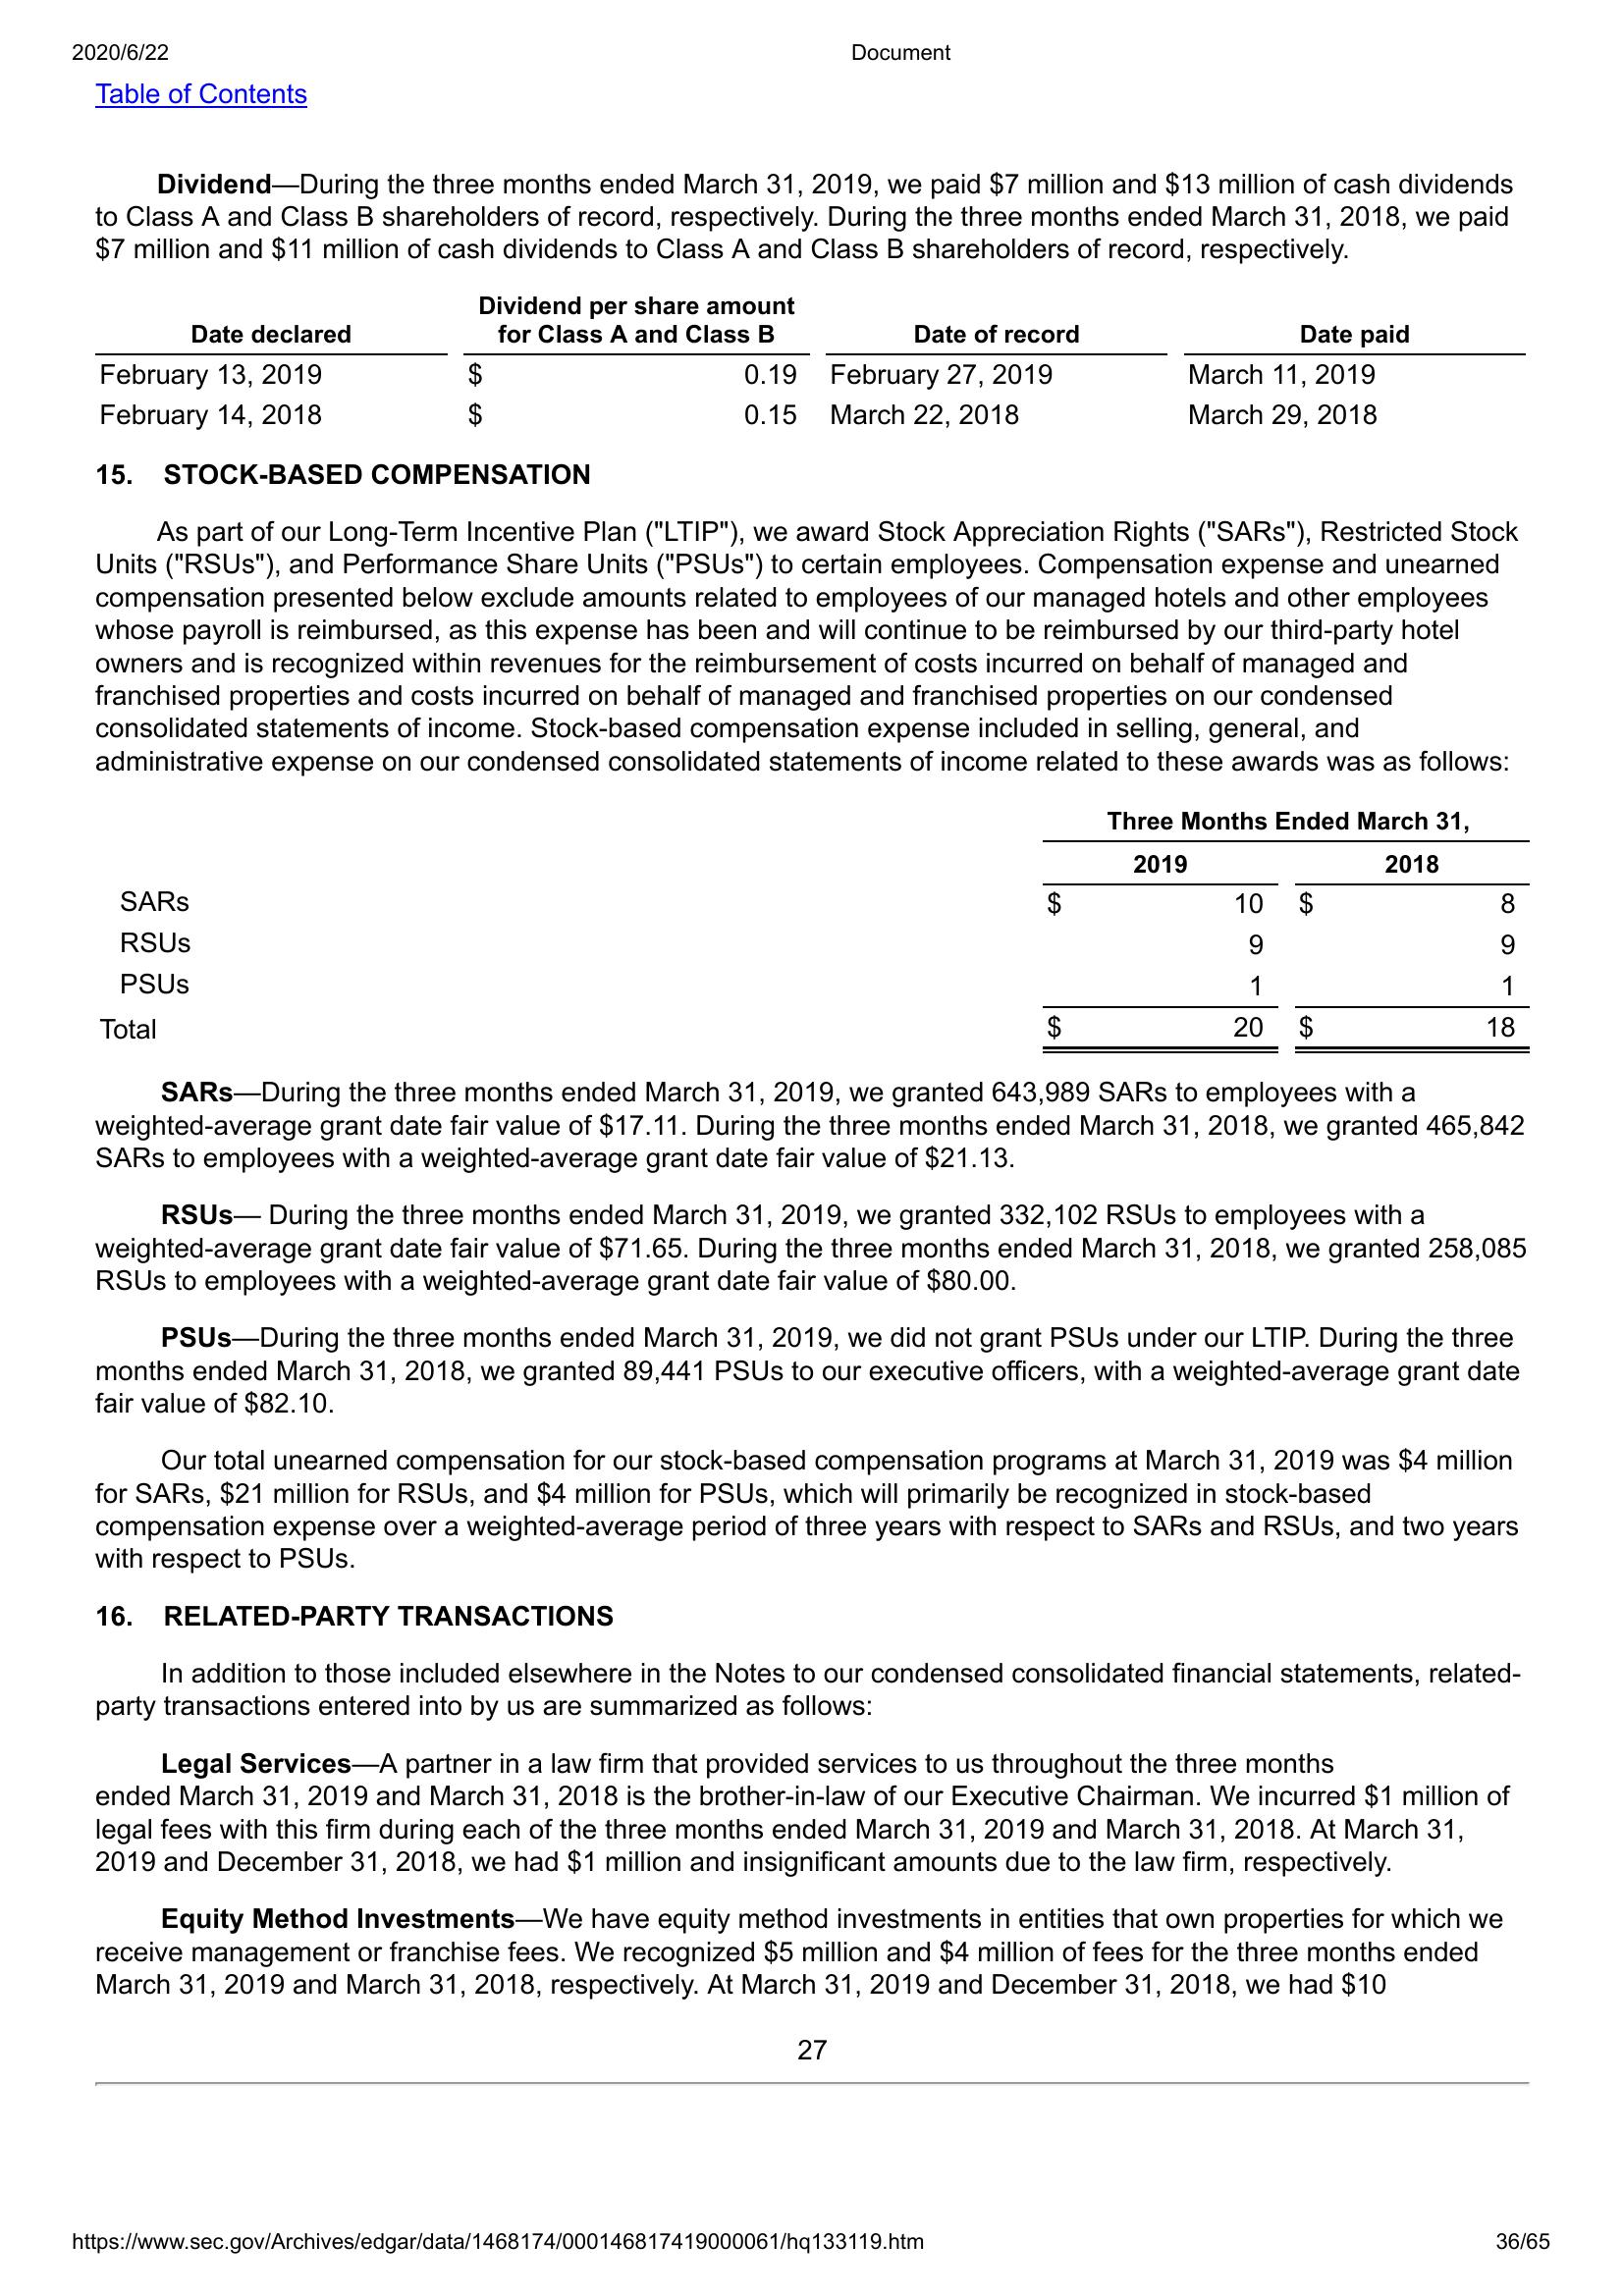table: (91, 800, 1542, 1064), (91, 279, 1540, 439)
